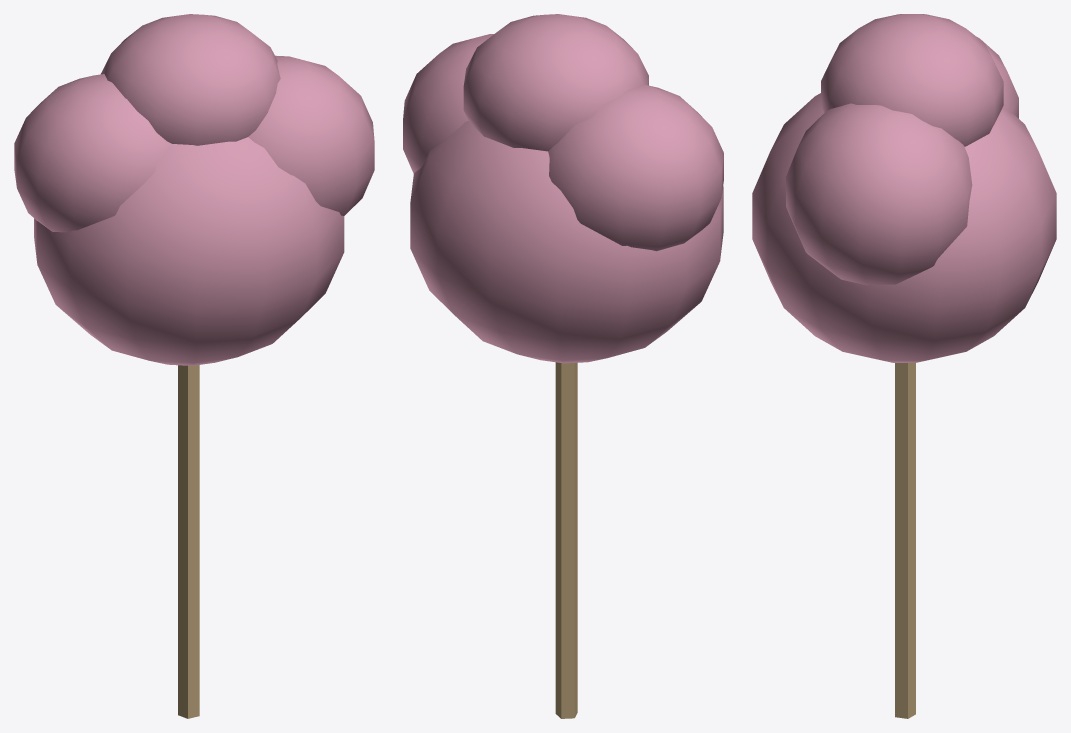
The model's file is item_wataame.glb.
3 views of the same model, side by side, from view 1: azimuth 30°, elevation 25°; view 2: azimuth 150°, elevation 25°; view 3: azimuth 270°, elevation 25° (orthographic).
Parts seen in each view (by area): view 1: item_wataame; view 2: item_wataame; view 3: item_wataame.
Part boxes in pixels (box(x1,y1,x2,y2)): item_wataame: box(14, 14, 374, 718); item_wataame: box(403, 14, 723, 718); item_wataame: box(752, 14, 1056, 718).
Size of the model in its own units: 0.1897 by 0.3964 by 0.1576.
